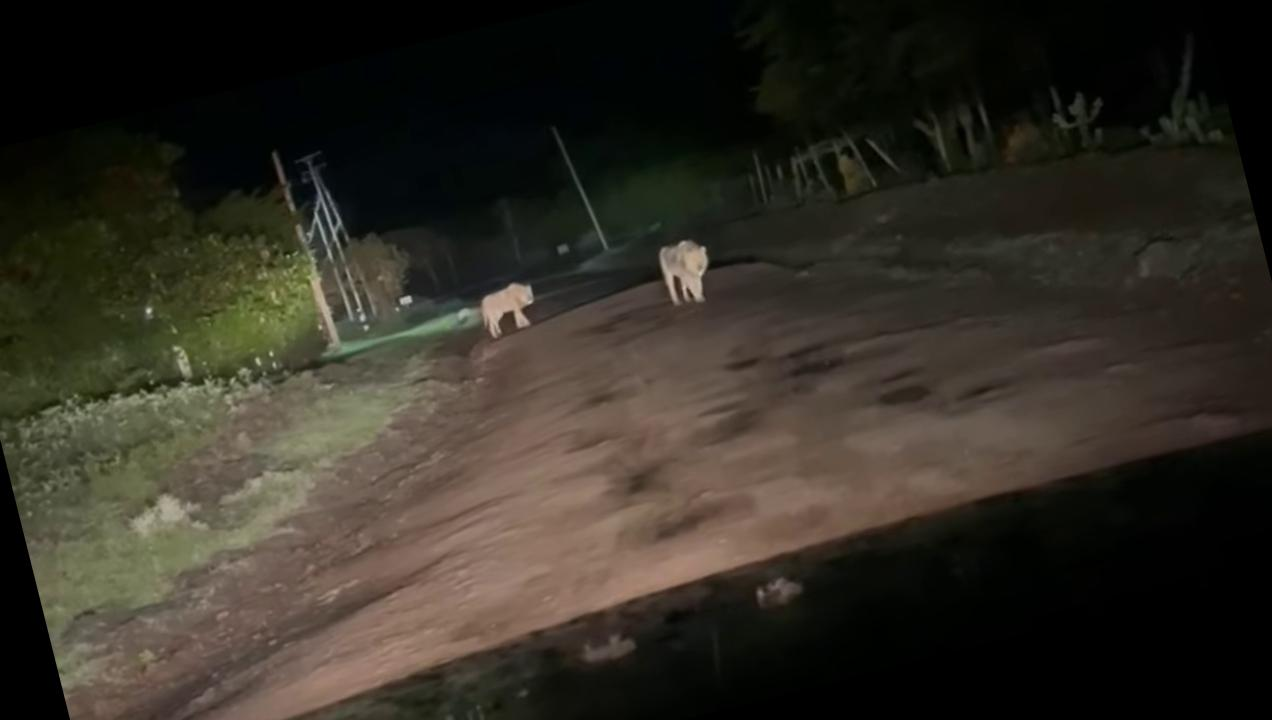lions: (425, 259, 568, 384), (640, 217, 750, 313)
